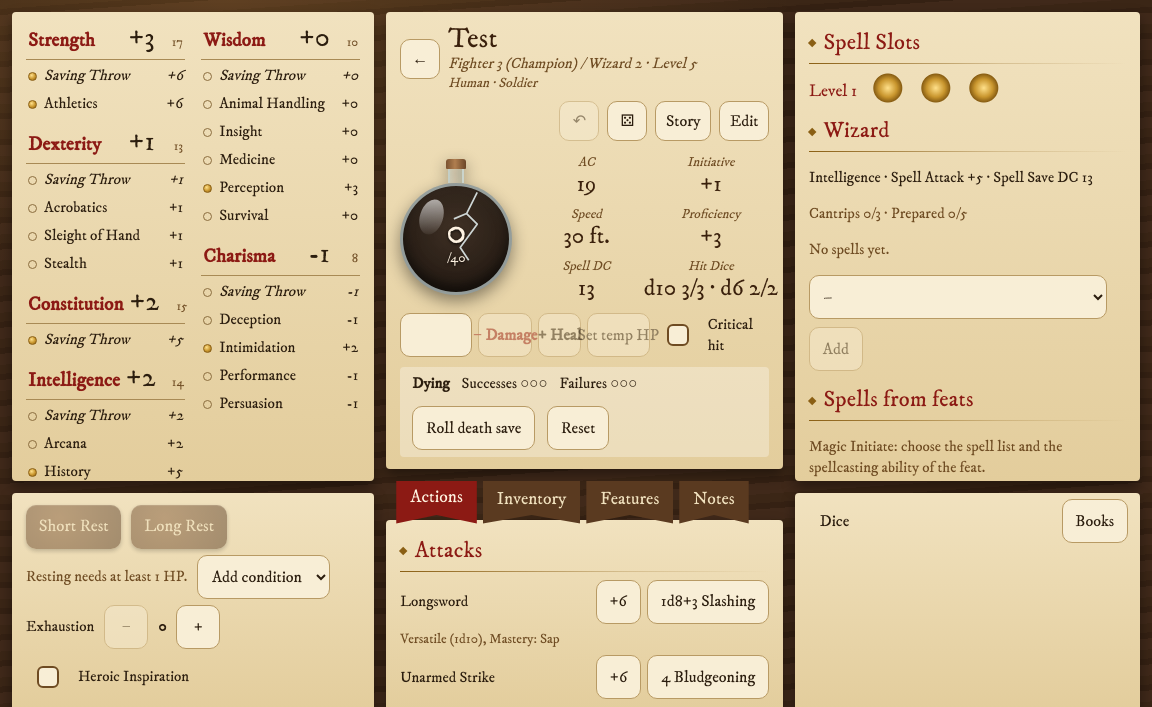
Test: sheet › at 0 hit points: death saves, a critical hit counts twice, and no rest
Expected: the element with test id "hp" is shown, [446,208,467,267]
Expected: the element named "Death Saving Throws" is shown, [400,367,769,457]
Click the checkbox labelled "Critical hit".
click(678, 335)  # box [656,313,700,357]
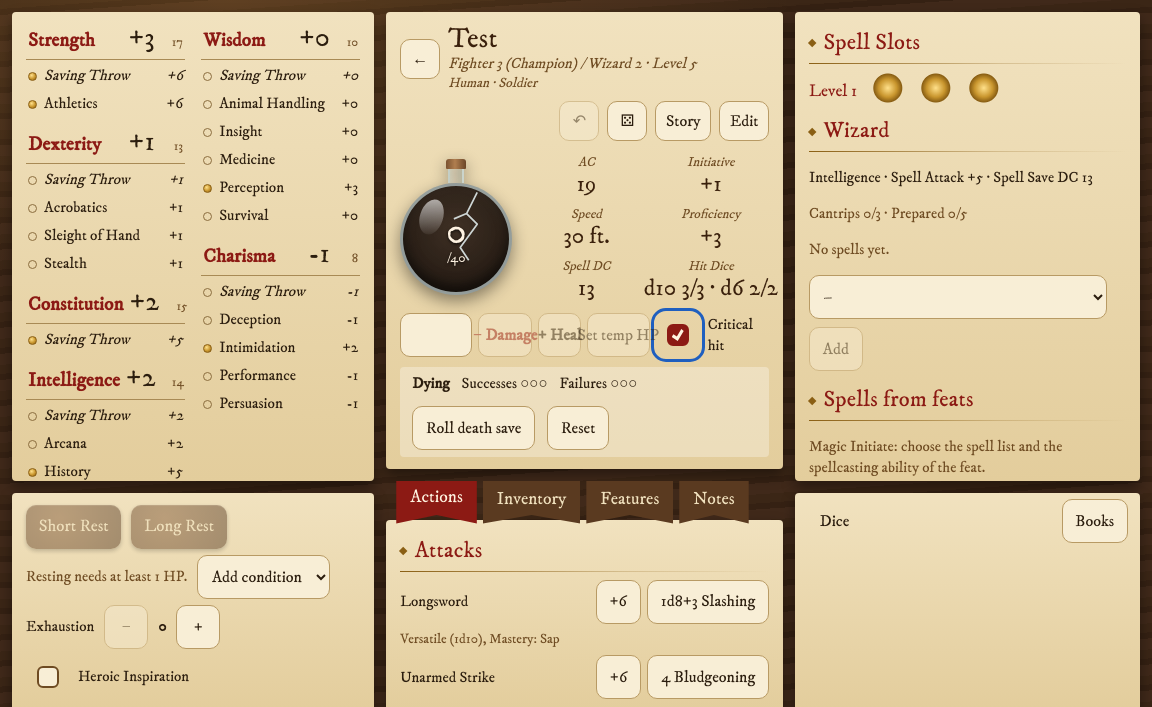
Type "2" into the number field named "Amount".
click(436, 335); type("2")  # box [400,313,472,357]
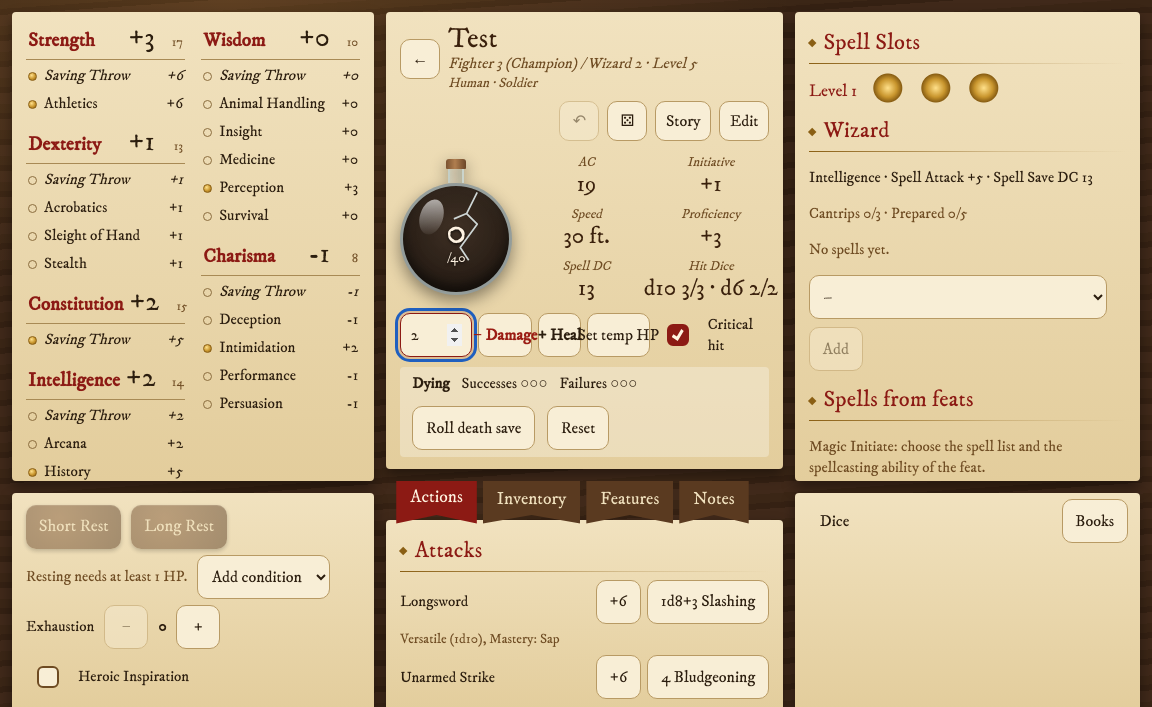
Click the button "− Damage".
click(505, 335)  # box [478,313,532,357]
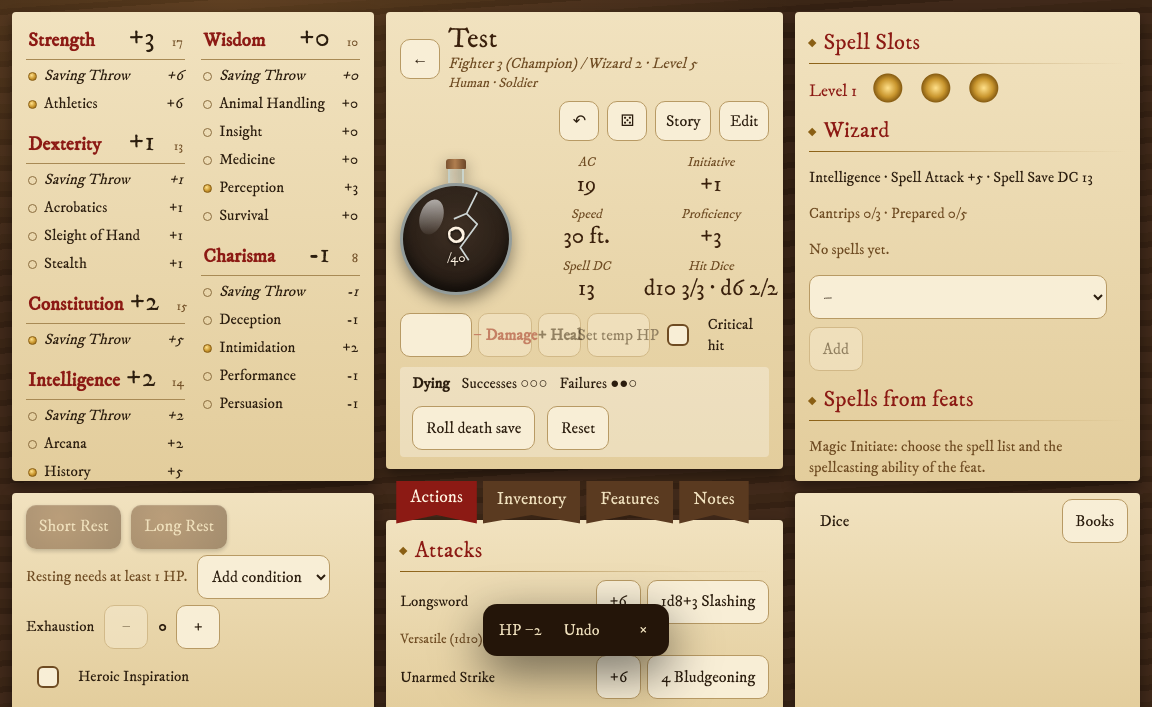
Result: the text "Failures ●●○" is shown at [560,374,637,394]
